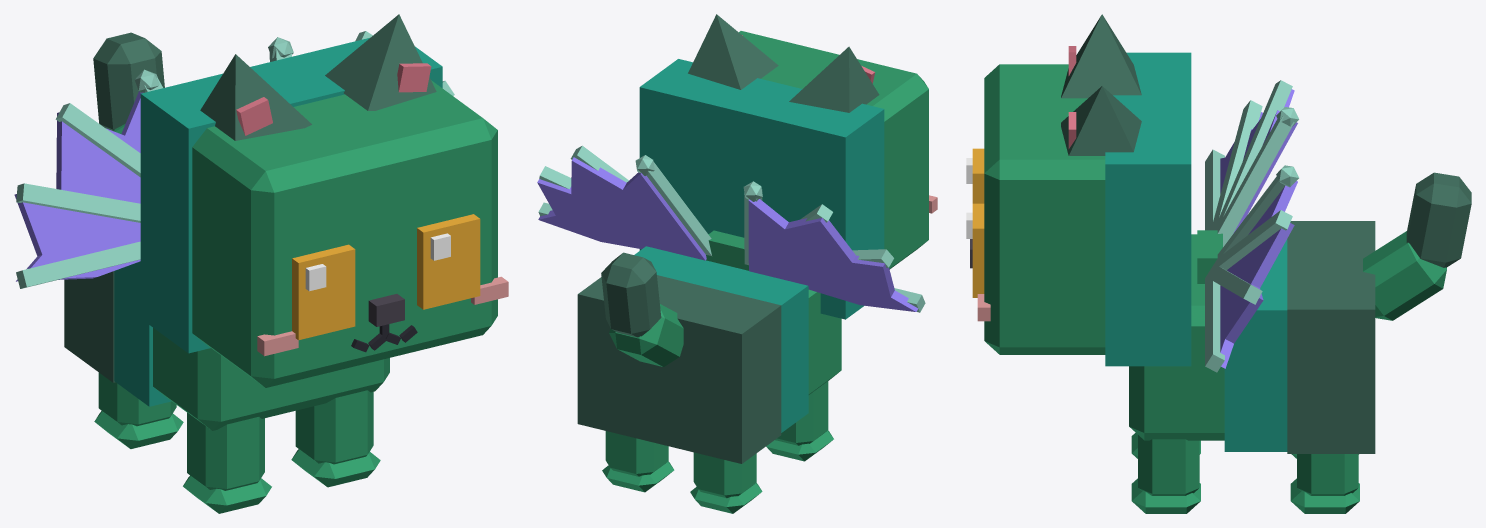
The model's file is CatCafe_Cat_Eclipse.fbx.
3 views of the same model, side by side, from view 1: azimuth 30°, elevation 25°; view 2: azimuth 150°, elevation 25°; view 3: azimuth 270°, elevation 25° (orthographic). The views are drawn at different scales.
Parts seen in each view (by area): view 1: CatCafe_Cat_Eclipse_Head, CatCafe_Cat_Eclipse_Body, CatCafe_Cat_Eclipse_Prop, CatCafe_Cat_Eclipse_LegF2, CatCafe_Cat_Eclipse_LegF1, CatCafe_Cat_Eclipse_EarL, CatCafe_Cat_Eclipse_Eye1, CatCafe_Cat_Eclipse_Eye2, CatCafe_Cat_Eclipse_EarR, CatCafe_Cat_Eclipse_Tail, CatCafe_Cat_Eclipse_LegB2; view 2: CatCafe_Cat_Eclipse_Head, CatCafe_Cat_Eclipse_Body, CatCafe_Cat_Eclipse_Prop, CatCafe_Cat_Eclipse_Tail, CatCafe_Cat_Eclipse_EarL, CatCafe_Cat_Eclipse_LegB2, CatCafe_Cat_Eclipse_EarR, CatCafe_Cat_Eclipse_LegB1, CatCafe_Cat_Eclipse_LegF2; view 3: CatCafe_Cat_Eclipse_Head, CatCafe_Cat_Eclipse_Body, CatCafe_Cat_Eclipse_Prop, CatCafe_Cat_Eclipse_Tail, CatCafe_Cat_Eclipse_LegF1, CatCafe_Cat_Eclipse_EarR, CatCafe_Cat_Eclipse_EarL, CatCafe_Cat_Eclipse_LegB1, CatCafe_Cat_Eclipse_Eye1, CatCafe_Cat_Eclipse_Eye2.
Part boxes in pixels (<box>): CatCafe_Cat_Eclipse_Head: <box>140,38,508,387</box>; CatCafe_Cat_Eclipse_Body: <box>64,261,389,430</box>; CatCafe_Cat_Eclipse_Prop: <box>14,31,454,288</box>; CatCafe_Cat_Eclipse_LegF2: <box>183,412,271,513</box>; CatCafe_Cat_Eclipse_LegF1: <box>291,390,380,487</box>; CatCafe_Cat_Eclipse_EarL: <box>325,14,436,110</box>; CatCafe_Cat_Eclipse_Eye1: <box>417,214,480,309</box>; CatCafe_Cat_Eclipse_Eye2: <box>292,244,355,340</box>; CatCafe_Cat_Eclipse_EarR: <box>200,54,311,140</box>; CatCafe_Cat_Eclipse_Tail: <box>93,32,164,133</box>; CatCafe_Cat_Eclipse_LegB2: <box>94,372,183,448</box>; CatCafe_Cat_Eclipse_Head: <box>639,31,937,319</box>; CatCafe_Cat_Eclipse_Body: <box>577,246,841,463</box>; CatCafe_Cat_Eclipse_Prop: <box>537,145,925,312</box>; CatCafe_Cat_Eclipse_Tail: <box>601,252,683,366</box>; CatCafe_Cat_Eclipse_EarL: <box>688,14,778,89</box>; CatCafe_Cat_Eclipse_LegB2: <box>690,452,762,513</box>; CatCafe_Cat_Eclipse_EarR: <box>789,46,879,112</box>; CatCafe_Cat_Eclipse_LegB1: <box>602,431,674,492</box>; CatCafe_Cat_Eclipse_LegF2: <box>766,381,833,461</box>; CatCafe_Cat_Eclipse_Head: <box>970,52,1191,366</box>; CatCafe_Cat_Eclipse_Body: <box>1129,221,1375,453</box>; CatCafe_Cat_Eclipse_Prop: <box>1197,80,1298,372</box>; CatCafe_Cat_Eclipse_Tail: <box>1363,172,1471,320</box>; CatCafe_Cat_Eclipse_LegF1: <box>1131,435,1200,513</box>; CatCafe_Cat_Eclipse_EarR: <box>1061,14,1141,98</box>; CatCafe_Cat_Eclipse_EarL: <box>1061,86,1141,155</box>; CatCafe_Cat_Eclipse_LegB1: <box>1290,454,1359,513</box>; CatCafe_Cat_Eclipse_Eye1: <box>966,203,984,297</box>; CatCafe_Cat_Eclipse_Eye2: <box>966,148,984,203</box>.
Size of the model in its own units: 1.89 by 1.86 by 1.97.
Materials: 1 (1 with a texture image).
